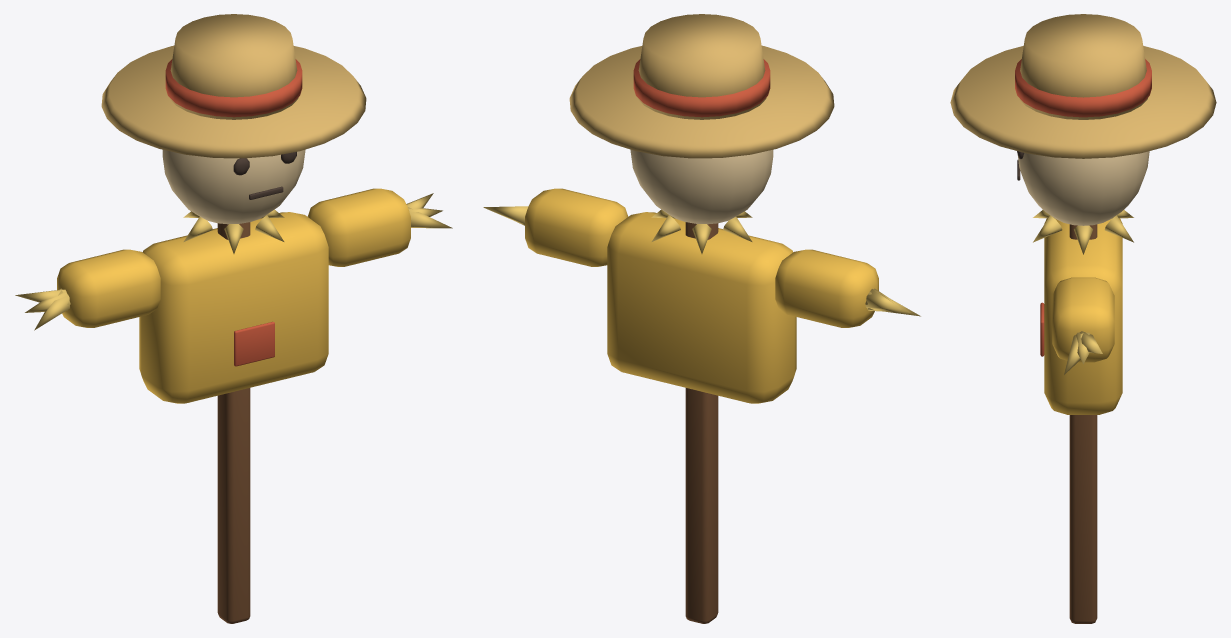
File: event-scarecrow.glb
The picture shows the model from 3 angles, left to right: view 1: azimuth 30°, elevation 25°; view 2: azimuth 150°, elevation 25°; view 3: azimuth 270°, elevation 25°; orthographic projection.
Visible parts, largest first — view 1: scarecrow; view 2: scarecrow; view 3: scarecrow.
Part boxes in pixels (left/top/right/bottom): scarecrow: left=15, top=14, right=452, bottom=623; scarecrow: left=483, top=14, right=920, bottom=623; scarecrow: left=950, top=14, right=1216, bottom=623.
Size of the model in its own units: 1.24 by 1.64 by 0.68.
